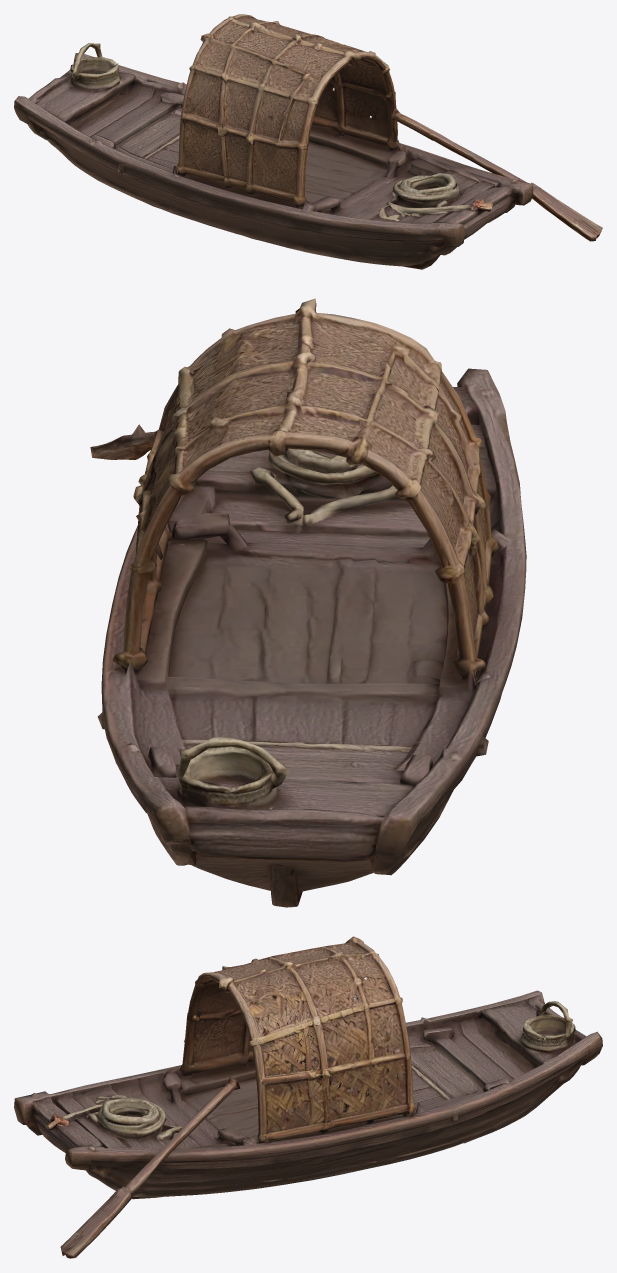
File: inn-boat.glb
3 views of the same model, one above another, from view 1: azimuth 30°, elevation 25°; view 2: azimuth 150°, elevation 25°; view 3: azimuth 270°, elevation 25° (orthographic). The views are drawn at different scales.
Parts seen in each view (by area): view 1: tripo_node_f550a2ac-416d-4467-887b-5806fd15f614; view 2: tripo_node_f550a2ac-416d-4467-887b-5806fd15f614; view 3: tripo_node_f550a2ac-416d-4467-887b-5806fd15f614.
Part boxes in pixels (bbox=[...]): tripo_node_f550a2ac-416d-4467-887b-5806fd15f614: bbox=[14, 14, 602, 269]; tripo_node_f550a2ac-416d-4467-887b-5806fd15f614: bbox=[90, 298, 526, 907]; tripo_node_f550a2ac-416d-4467-887b-5806fd15f614: bbox=[14, 936, 602, 1258].
Size of the model in its own units: 0.7961 by 0.4048 by 1.
1 material, 1 textured.
